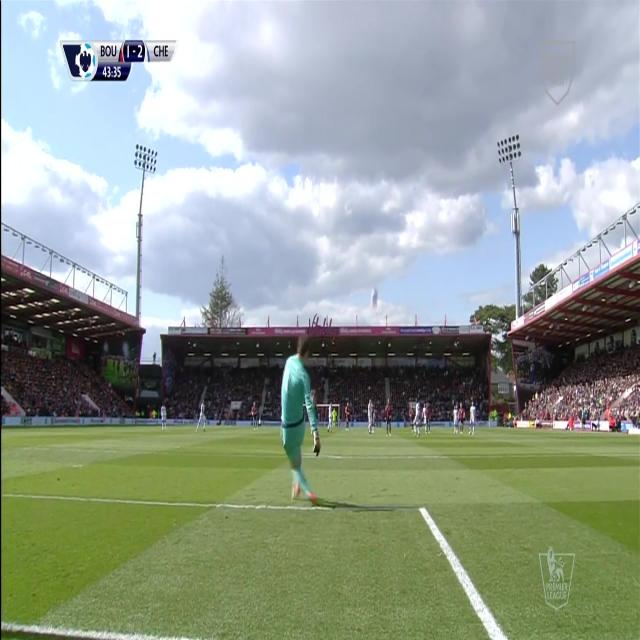Ball: (368, 284, 380, 308)
Goalkeeper: (278, 330, 325, 510), (331, 404, 339, 433)
Player: (193, 398, 210, 436), (250, 397, 262, 435), (467, 398, 478, 438), (411, 396, 421, 436), (383, 398, 393, 435), (458, 400, 467, 438), (366, 399, 375, 436), (160, 400, 170, 433), (425, 400, 433, 436), (451, 402, 459, 436), (324, 402, 333, 432), (343, 401, 351, 431)
